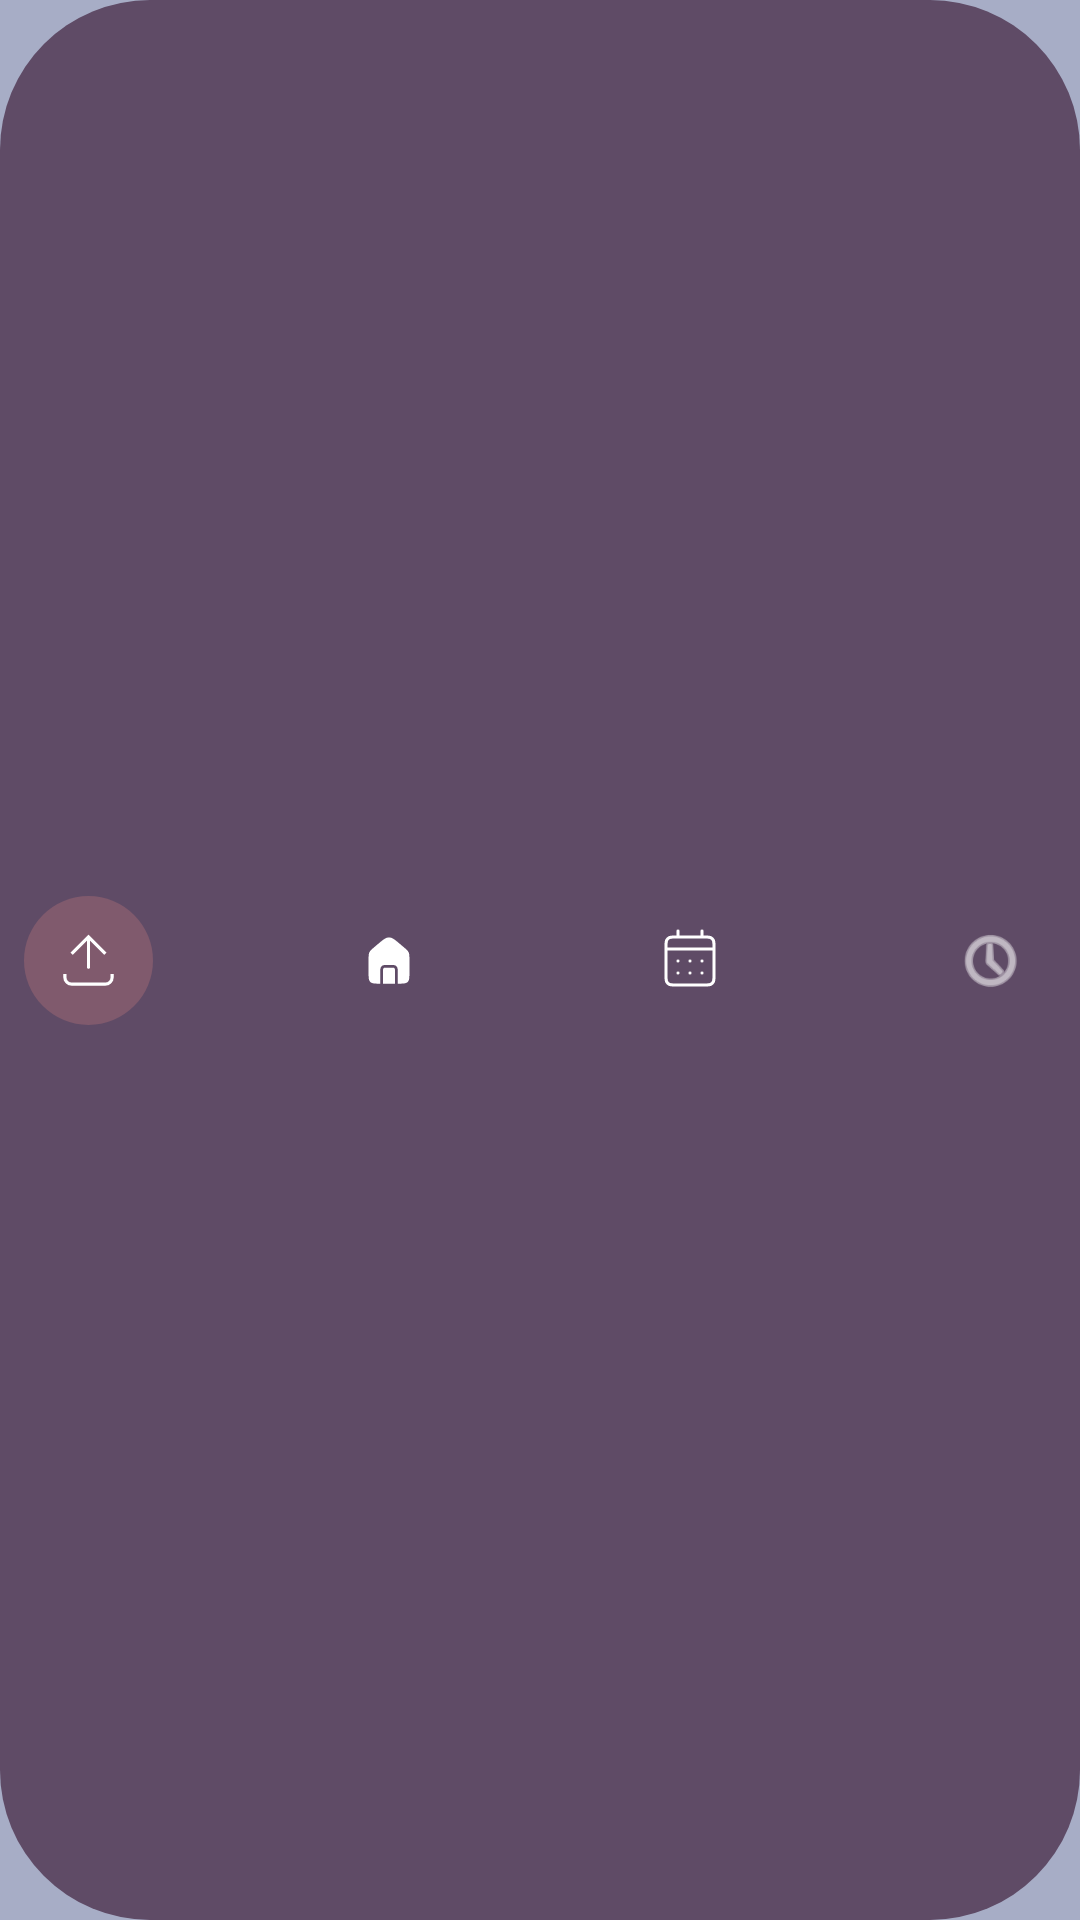

Icons on this 1080 × 1920 Android screen, each with the point to tap as [x,y]:
dasboard: [389,960]
export: [88,960]
recent history: [991,961]
timesheet: [690,958]
